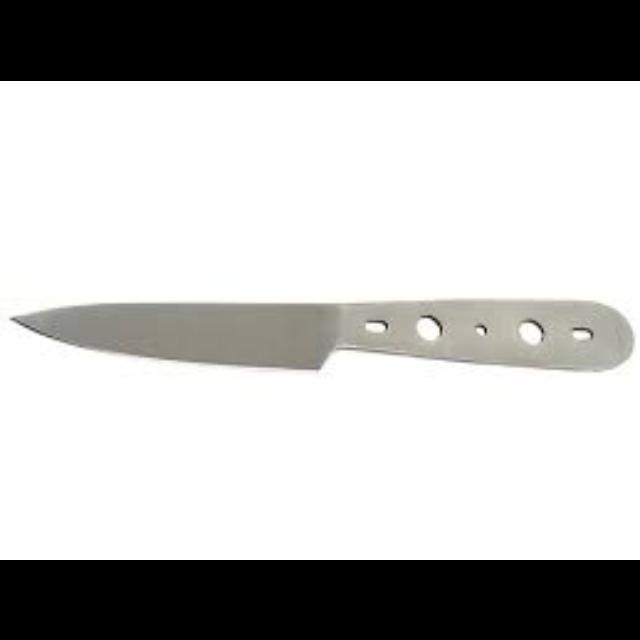Knife: (8, 295, 632, 371)
